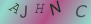C: (75, 4, 88, 19)
H: (35, 2, 45, 14)
J: (19, 4, 28, 20)
N: (49, 1, 63, 17)
Z: (8, 3, 20, 15)
